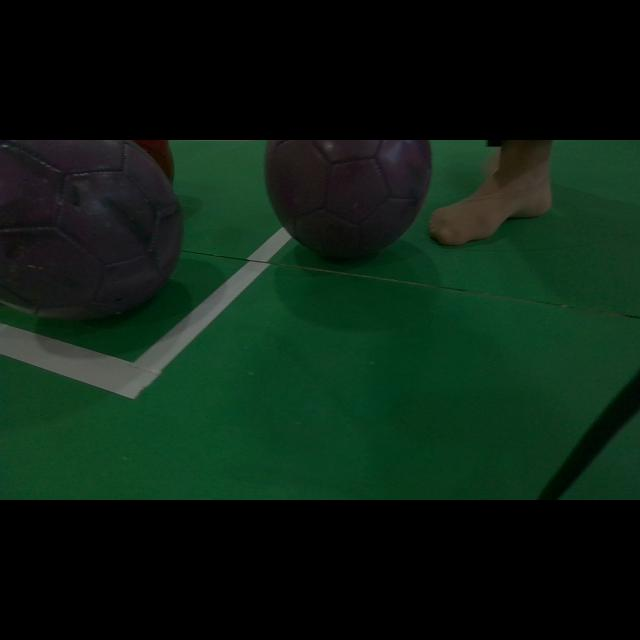P: (0, 140, 182, 319), (265, 140, 431, 258)
R: (134, 140, 175, 183)
